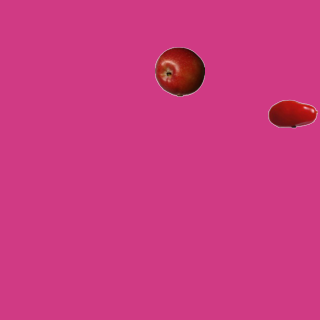Apple Braeburn: (154, 46, 204, 96)
Tomato 2: (267, 88, 317, 138)
